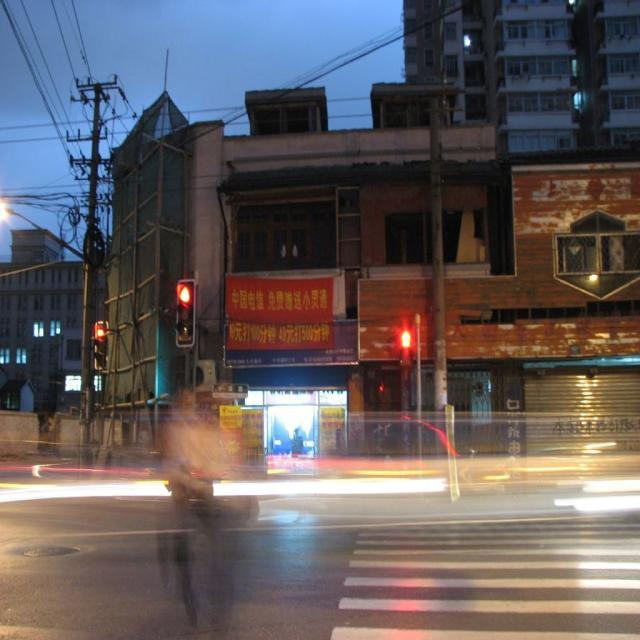traffic light: (175, 280, 194, 343), (95, 326, 106, 371)
